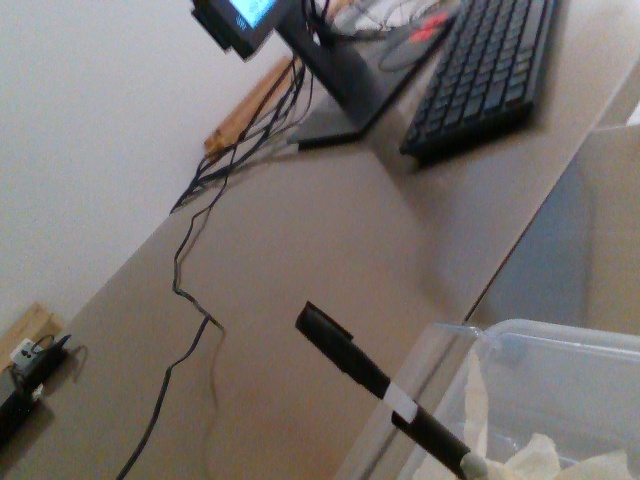test_strip: (293, 300, 418, 423)
